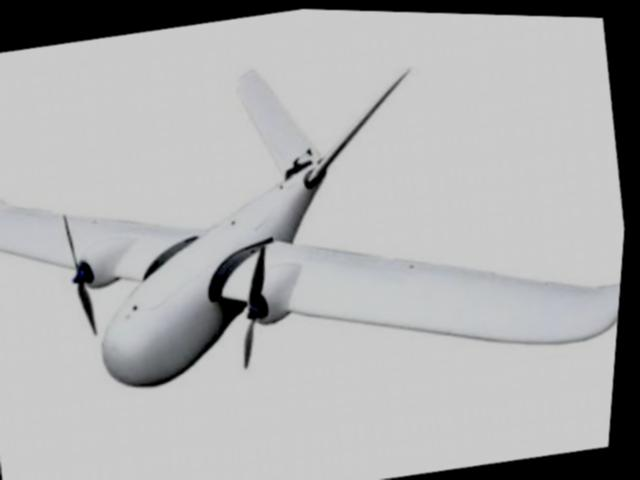uav: (0, 0, 640, 442)
